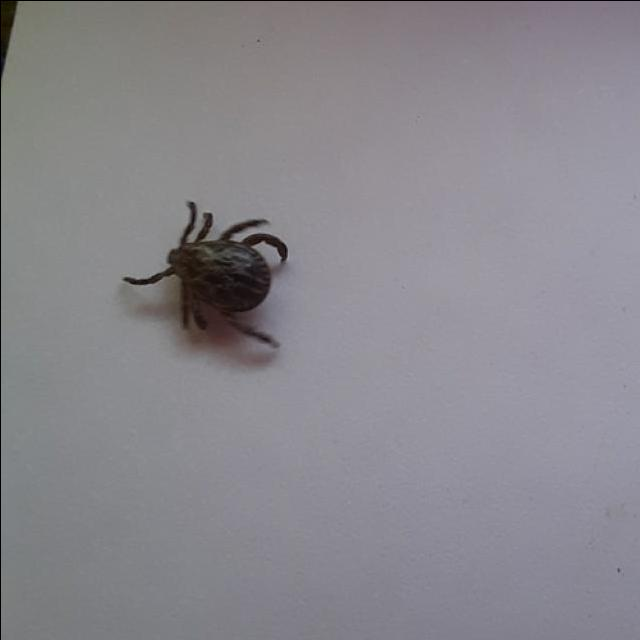Dermacentor Reticulatus-M: (122, 201, 285, 346)
